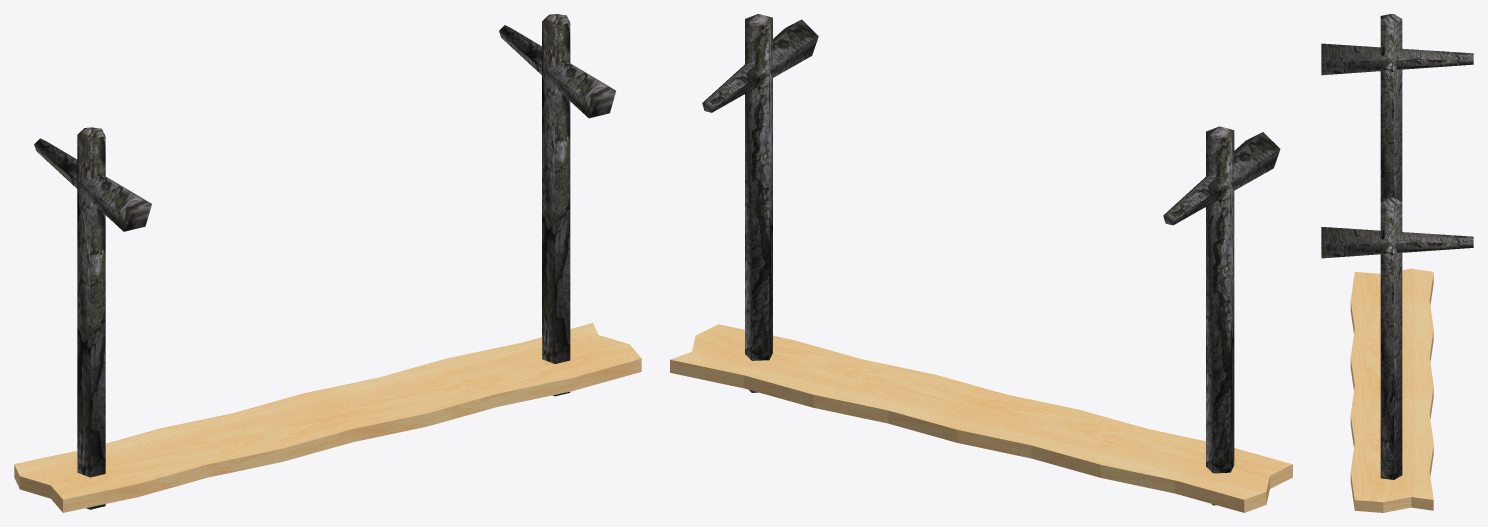
Rendered from bridge segment.gltf.
3 renders of one model, left to right at view 1: azimuth 30°, elevation 25°; view 2: azimuth 150°, elevation 25°; view 3: azimuth 270°, elevation 25°, orthographic. The views are drawn at different scales.
Visible parts, largest first — view 1: Circle.001; view 2: Circle.001; view 3: Circle.001.
Boxes of the visible parts, x1,y1,x2,y2 form: Circle.001: (14, 14, 641, 512); Circle.001: (670, 14, 1292, 512); Circle.001: (1321, 14, 1473, 512).
Size of the model in its own units: 3.5 by 2.12 by 0.9654.
5 materials, 5 textured.
